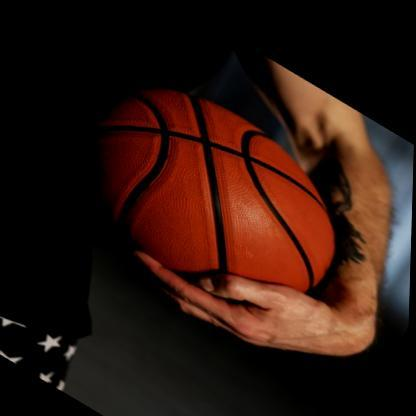basketball: (50, 31, 368, 339)
